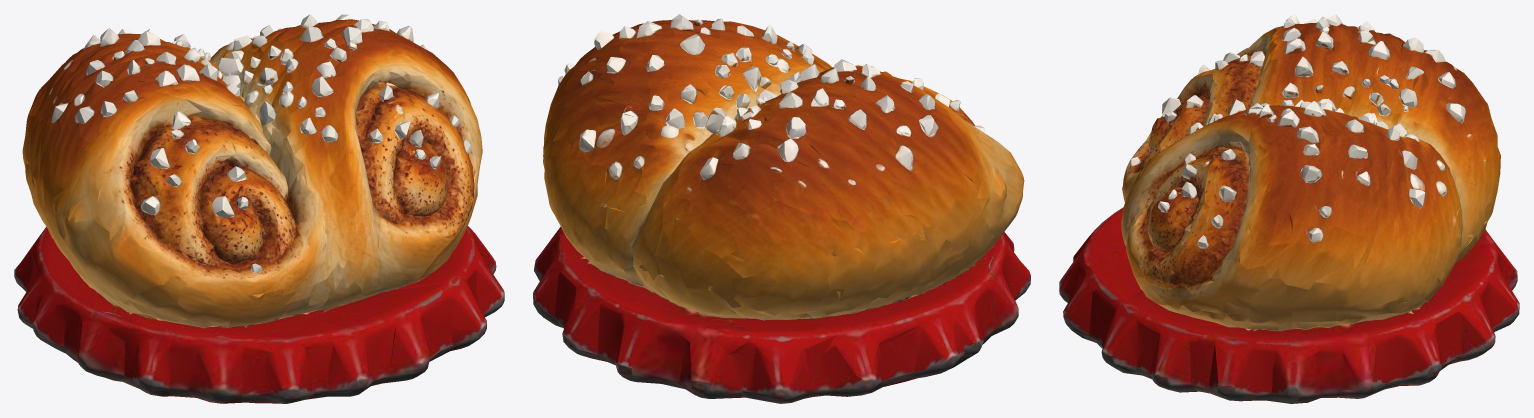
The model's file is props_pulla.glb.
3 views of the same model, side by side, from view 1: azimuth 30°, elevation 25°; view 2: azimuth 150°, elevation 25°; view 3: azimuth 270°, elevation 25° (orthographic). The views are drawn at different scales.
Parts seen in each view (by area): view 1: output_unwrapped; view 2: output_unwrapped; view 3: output_unwrapped.
Part boxes in pixels (x1,y1,x2,y2): output_unwrapped: (14, 14, 504, 403); output_unwrapped: (533, 14, 1030, 403); output_unwrapped: (1059, 14, 1519, 403).
Bounding box in the file's own units: 0.1097 × 0.0669 × 0.11.
1 material, 1 textured.
